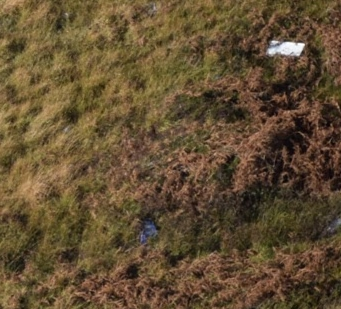cuboid: (260, 31, 311, 64)
white_in_green: (119, 202, 178, 256)
